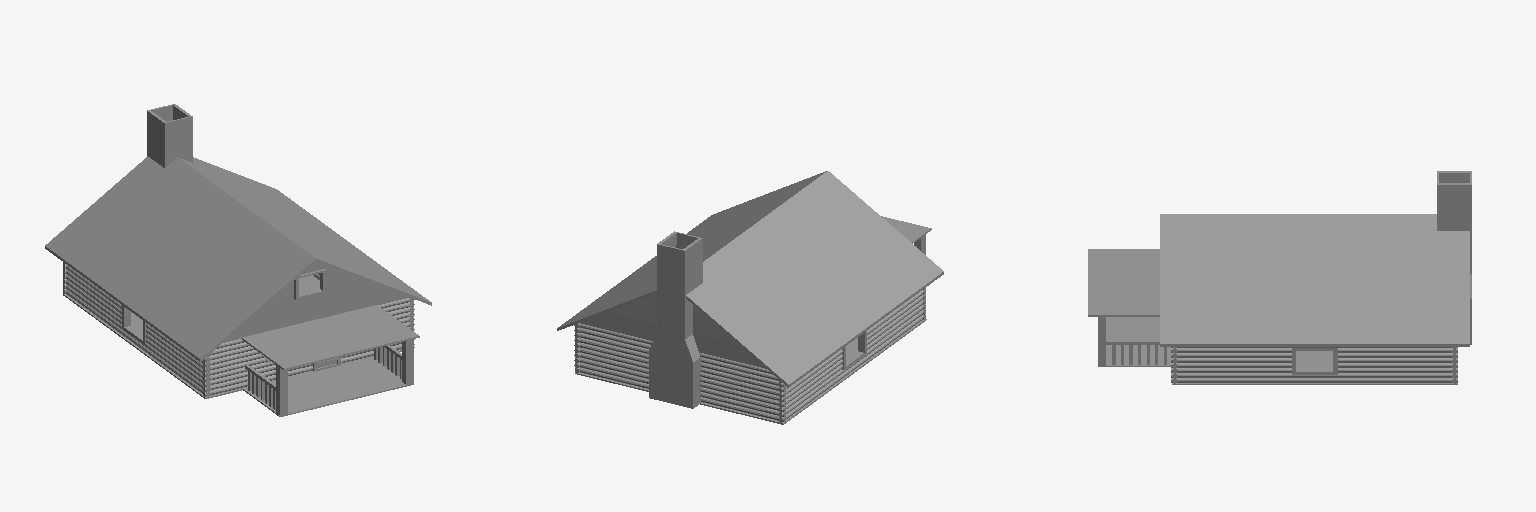
File: house.obj
3 renders of one model, left to right at view 1: azimuth 30°, elevation 25°; view 2: azimuth 150°, elevation 25°; view 3: azimuth 270°, elevation 25°, orthographic.
Size of the model in its own units: 6.37 by 4.12 by 9.14.